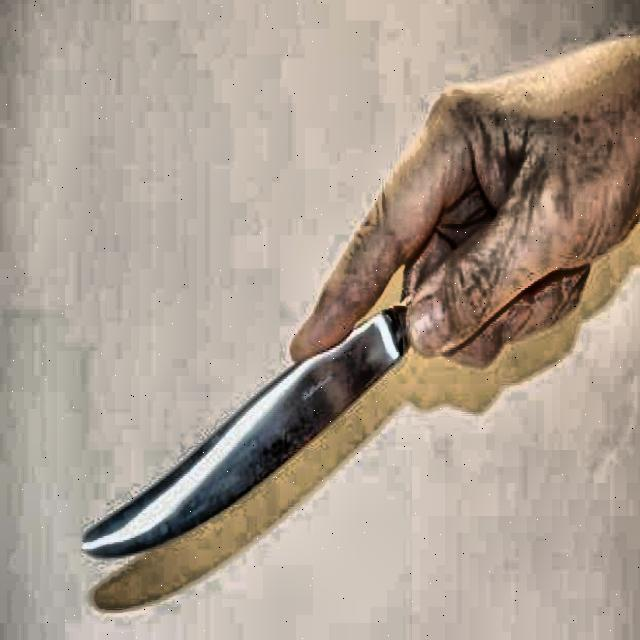knife: (83, 298, 414, 557)
